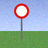sign: (14, 4, 29, 40)
